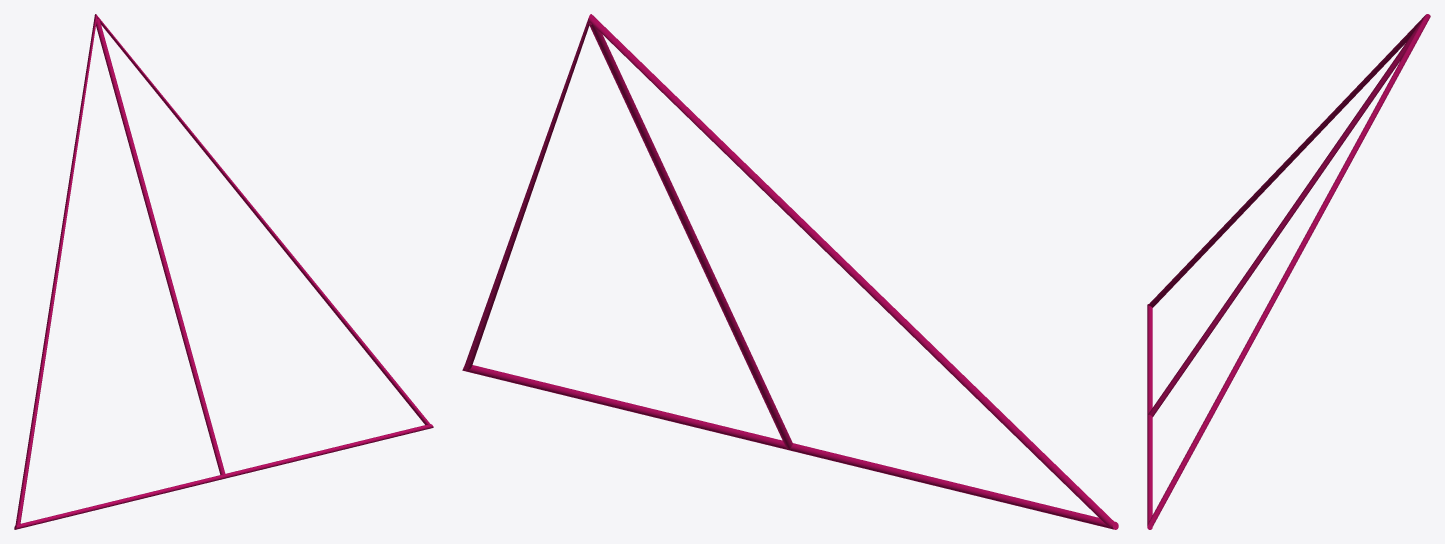
3 views of the same model, side by side, from view 1: azimuth 30°, elevation 25°; view 2: azimuth 150°, elevation 25°; view 3: azimuth 270°, elevation 25° (orthographic). The views are drawn at different scales.
Visible parts, largest first — view 1: Циліндр.001; view 2: Циліндр.001; view 3: Циліндр.001.
Part boxes in pixels (x1=…): Циліндр.001: x1=14, y1=14, x2=433, y2=529; Циліндр.001: x1=462, y1=14, x2=1118, y2=529; Циліндр.001: x1=1147, y1=14, x2=1430, y2=529.
Size of the model in its own units: 5.71 by 4.85 by 3.07.
